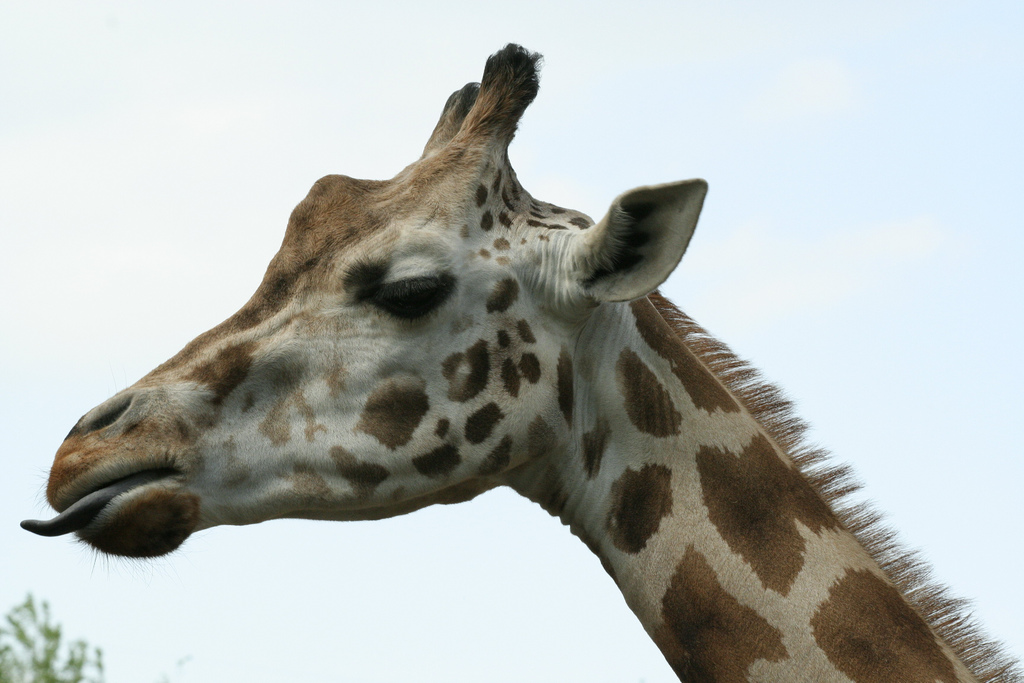giraffe: (62, 49, 982, 665)
